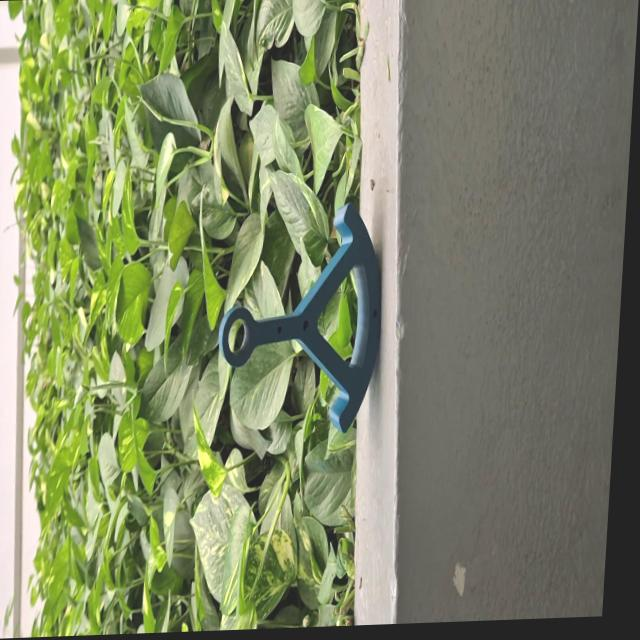haptic: (211, 198, 389, 440)
